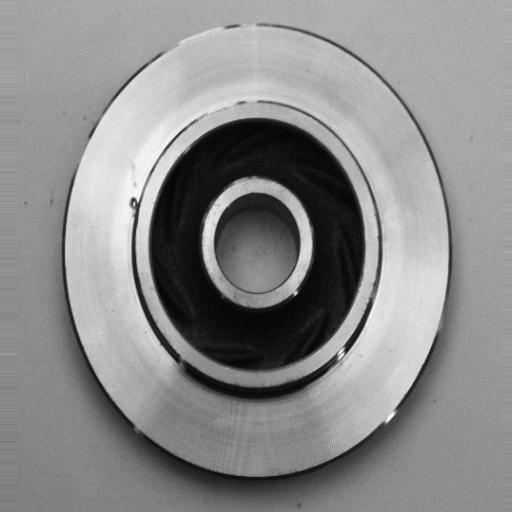crack: (119, 188, 146, 222)
scratch: (185, 85, 271, 130), (329, 327, 359, 384)
unpolished_casting: (60, 20, 454, 482)
